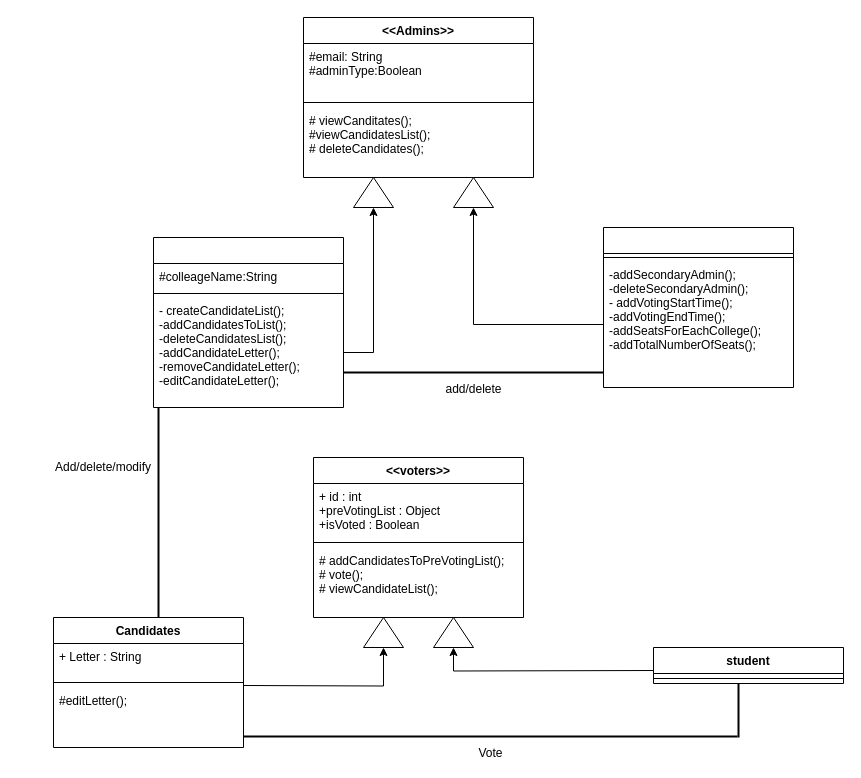
Image size: 861x778. Some labels were removed from this diagram. The shapes that lost their labels are listed below. From the top down, each one's box as (x1, y1, x2, y2) in pixels, then its label:
(152, 236, 344, 408): Secondary admin
(602, 226, 794, 388): Main Admin
